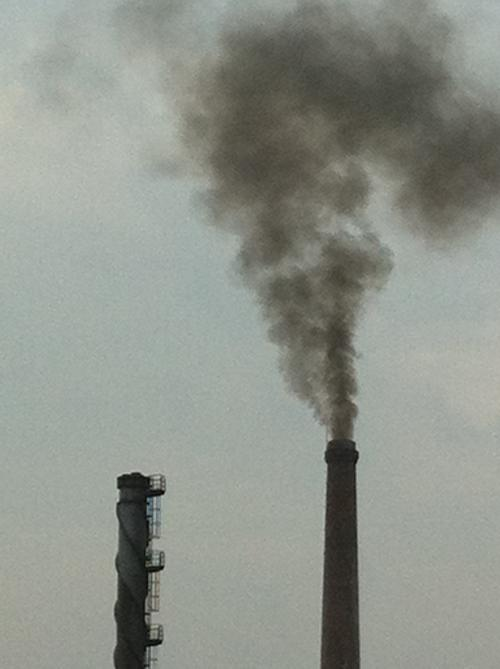smoke: (165, 1, 500, 432)
